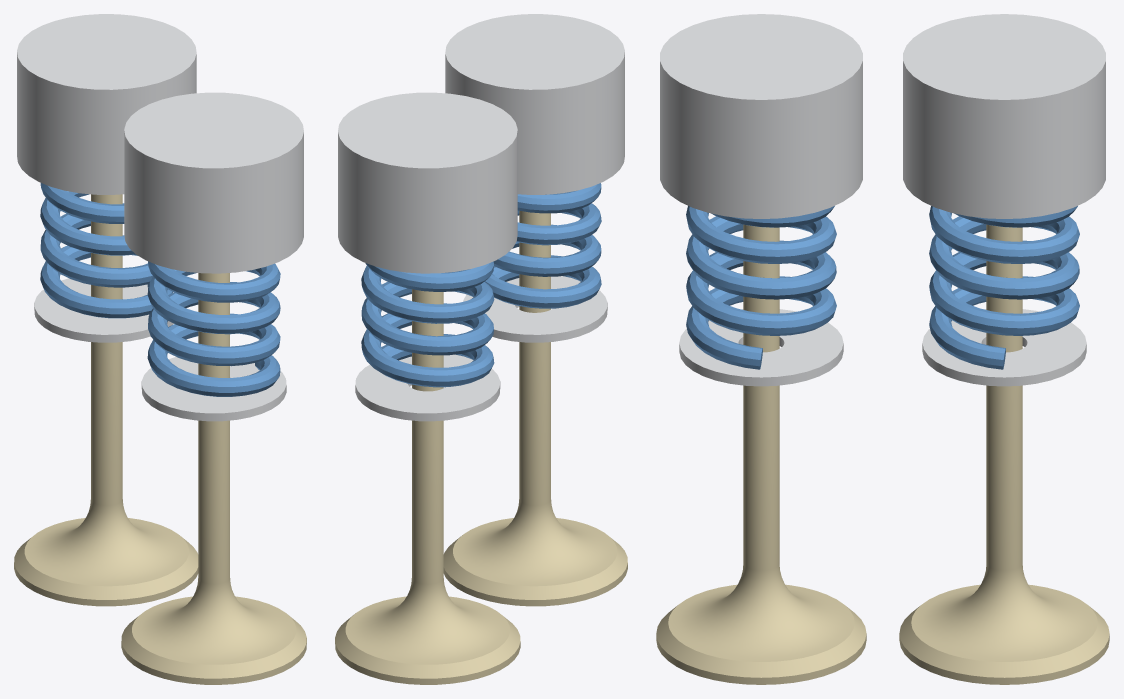
The model's file is valve_in.glb.
3 views of the same model, side by side, from view 1: azimuth 30°, elevation 25°; view 2: azimuth 150°, elevation 25°; view 3: azimuth 270°, elevation 25° (orthographic). The views are drawn at different scales.
Parts seen in each view (by area): view 1: polished_1, valve_in_0, spring_2; view 2: polished_1, valve_in_0, spring_2; view 3: polished_1, valve_in_0, spring_2.
Boxes of the visible parts, bbox=[...] form: polished_1: bbox=[17, 14, 303, 421]; valve_in_0: bbox=[14, 194, 306, 684]; spring_2: bbox=[40, 183, 280, 396]; polished_1: bbox=[338, 14, 624, 421]; valve_in_0: bbox=[335, 210, 627, 684]; spring_2: bbox=[361, 183, 601, 387]; polished_1: bbox=[660, 14, 1105, 386]; valve_in_0: bbox=[656, 224, 1109, 684]; spring_2: bbox=[686, 206, 1079, 369].
Size of the model in its own units: 0.032 by 0.098 by 0.069.
